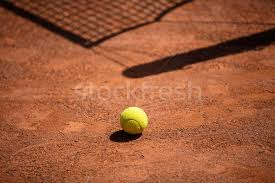tennis_ball: (118, 105, 147, 135)
